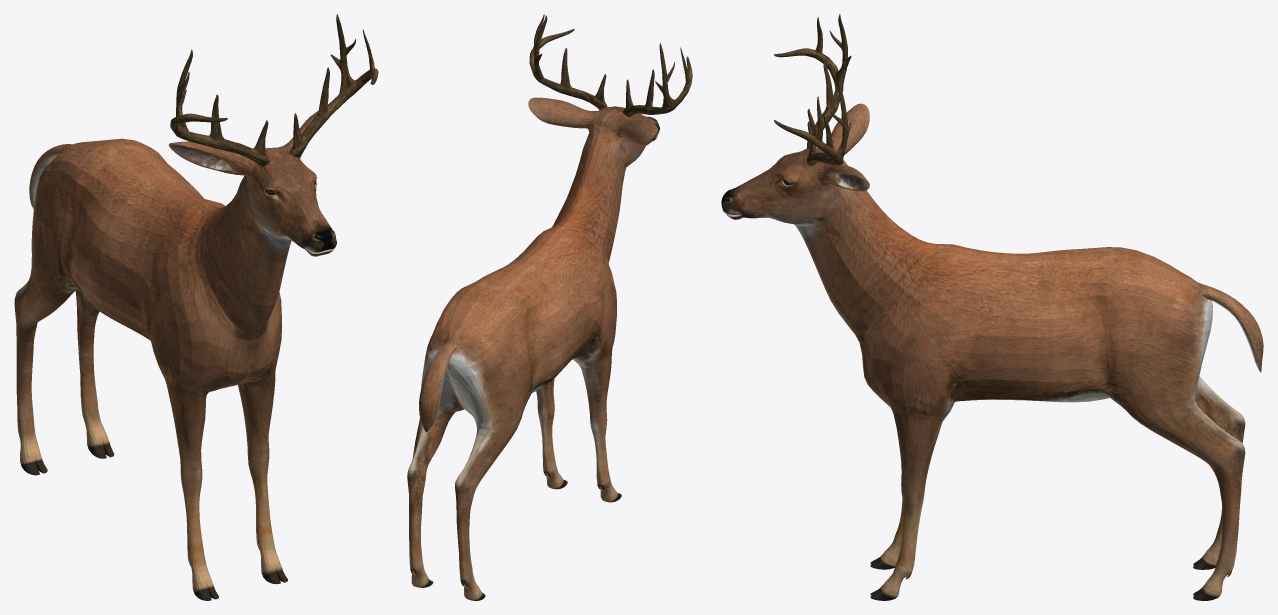
The model's file is Q0HMFCFEKGQFQLM3B7BMHPP0R.obj.
3 renders of one model, left to right at view 1: azimuth 30°, elevation 25°; view 2: azimuth 150°, elevation 25°; view 3: azimuth 270°, elevation 25°, orthographic. The views are drawn at different scales.
Parts seen in each view (by area): view 1: Object_Deer; view 2: Object_Deer; view 3: Object_Deer.
Part boxes in pixels (left/top/right/bottom): Object_Deer: left=14, top=14, right=378, bottom=600; Object_Deer: left=407, top=14, right=692, bottom=600; Object_Deer: left=721, top=14, right=1263, bottom=600.
Size of the model in its own units: 0.9158 by 2.5 by 2.3.
Materials: 1 (1 with a texture image).
